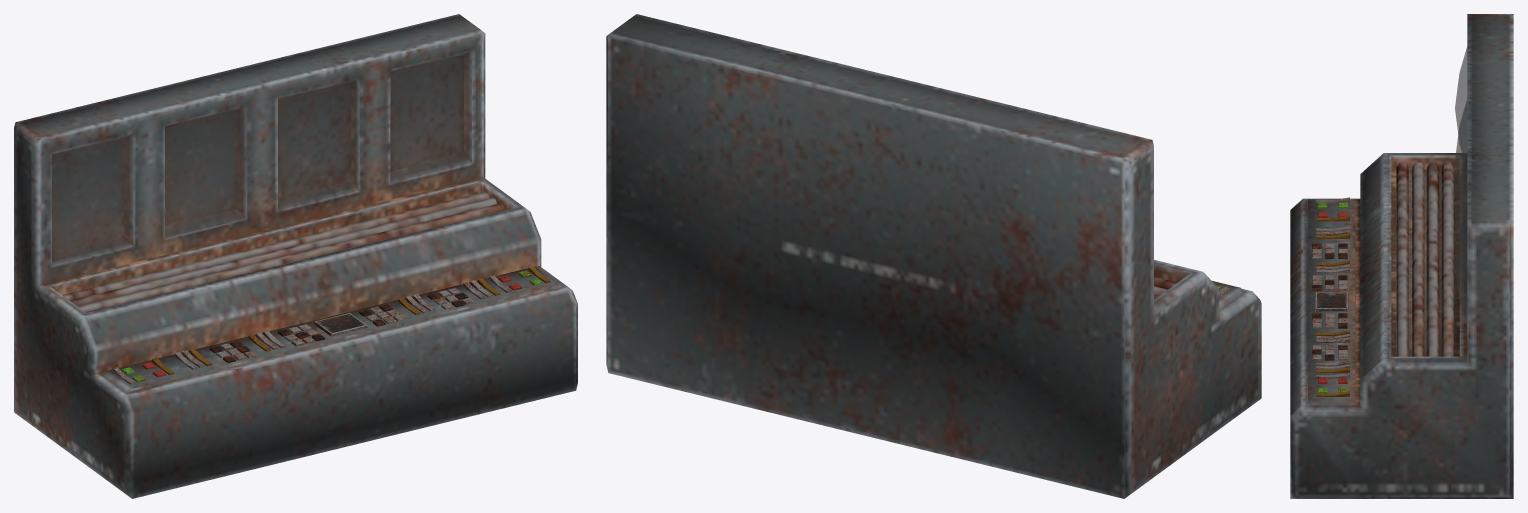
File: bunker_machine.c1b4648938.glb
3 renders of one model, left to right at view 1: azimuth 30°, elevation 25°; view 2: azimuth 150°, elevation 25°; view 3: azimuth 270°, elevation 25°, orthographic. The views are drawn at different scales.
Visible parts, largest first — view 1: bunker_machine_2, bunker_machine_3, bunker_machine_1, bunker_machine_0; view 2: bunker_machine_2; view 3: bunker_machine_2, bunker_machine_1, bunker_machine_0, bunker_machine_3.
Part boxes in pixels (bbox=[...]): bunker_machine_2: bbox=[14, 14, 577, 498]; bunker_machine_3: bbox=[52, 51, 471, 265]; bunker_machine_1: bbox=[62, 192, 508, 312]; bunker_machine_0: bbox=[113, 266, 550, 384]; bunker_machine_2: bbox=[606, 14, 1261, 498]; bunker_machine_2: bbox=[1290, 14, 1513, 498]; bunker_machine_1: bbox=[1396, 162, 1453, 356]; bunker_machine_0: bbox=[1312, 197, 1349, 396]; bunker_machine_3: bbox=[1455, 47, 1467, 326].
Bounding box in the file's own units: 3.6 × 2.22 × 1.61.
Materials: 3 (2 with a texture image).
